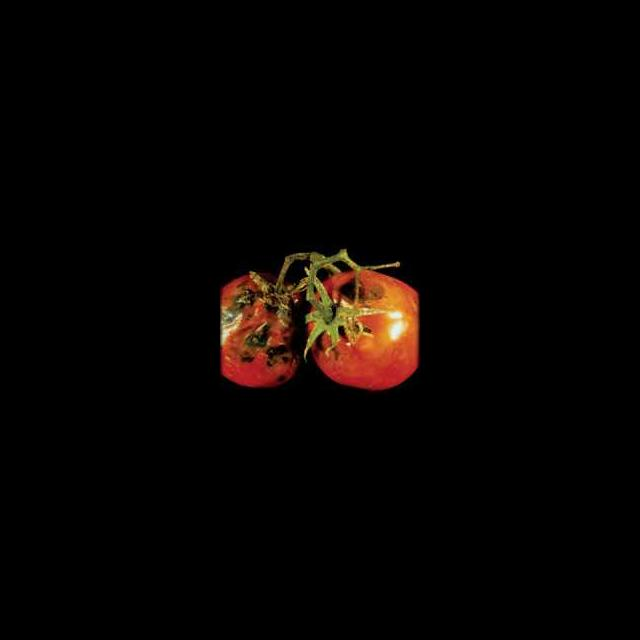tomato: (220, 245, 420, 392)
